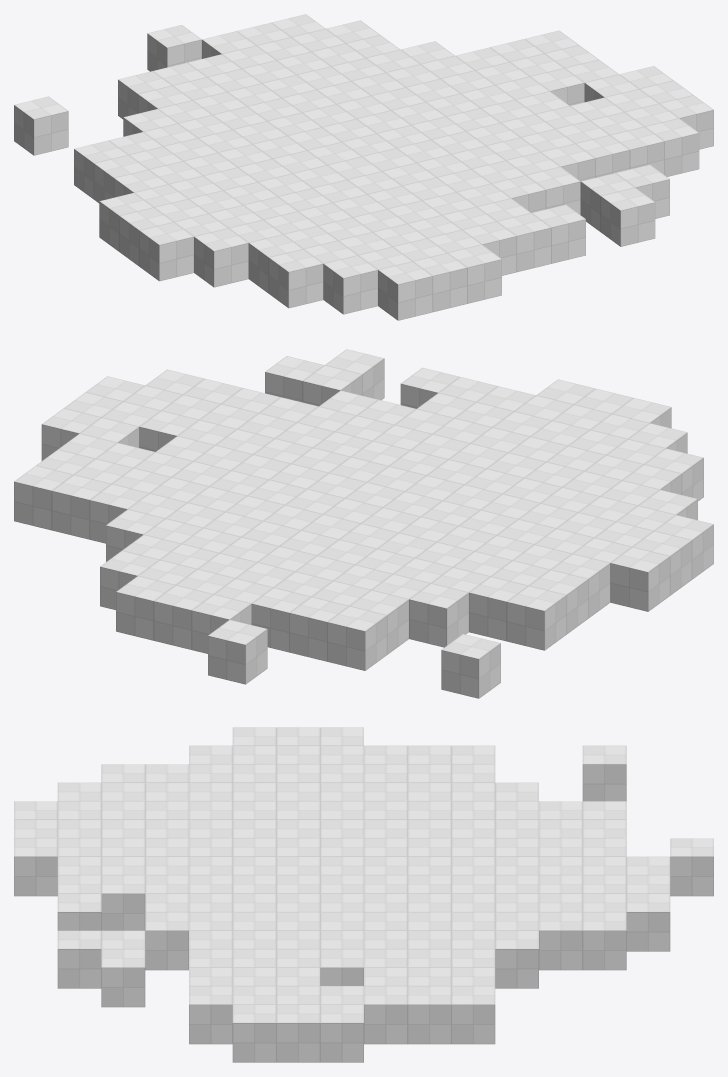
The picture shows the model from 3 angles, top to bottom: view 1: azimuth 30°, elevation 25°; view 2: azimuth 150°, elevation 25°; view 3: azimuth 270°, elevation 25°; orthographic projection. The views are drawn at different scales.
Visible parts, largest first — view 1: meshes[0]; view 2: meshes[0]; view 3: meshes[0].
Boxes of the visible parts, <box> form: meshes[0]: <box>14,14,713,320</box>; meshes[0]: <box>14,349,713,698</box>; meshes[0]: <box>14,727,713,1062</box>.
Bounding box in the file's own units: 16 × 1 × 16.
1 material, 1 textured.
